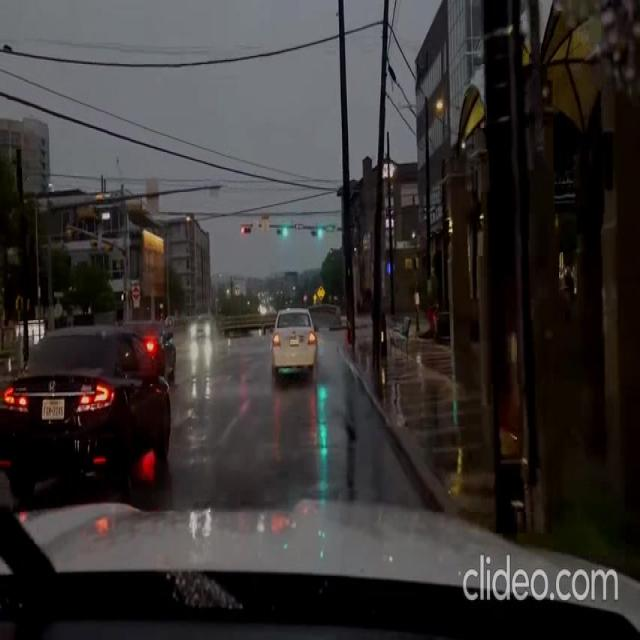Car: (0, 325, 172, 494), (269, 306, 318, 380), (124, 317, 175, 383), (189, 313, 214, 338)
